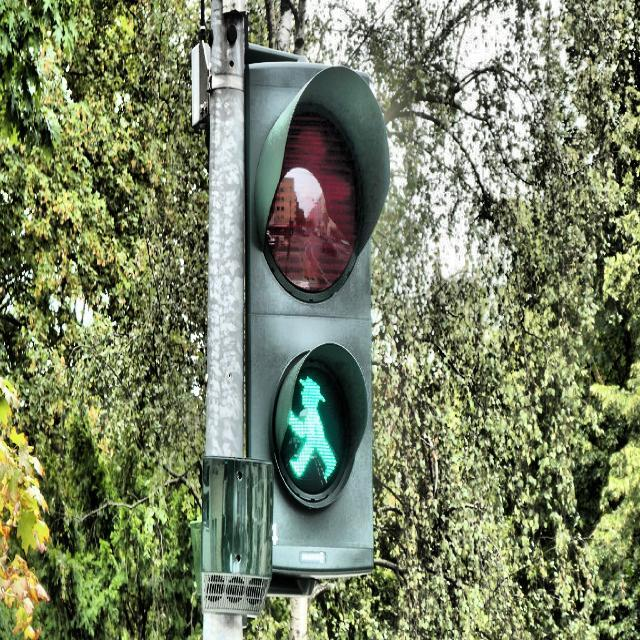green_light: (288, 371, 338, 486)
